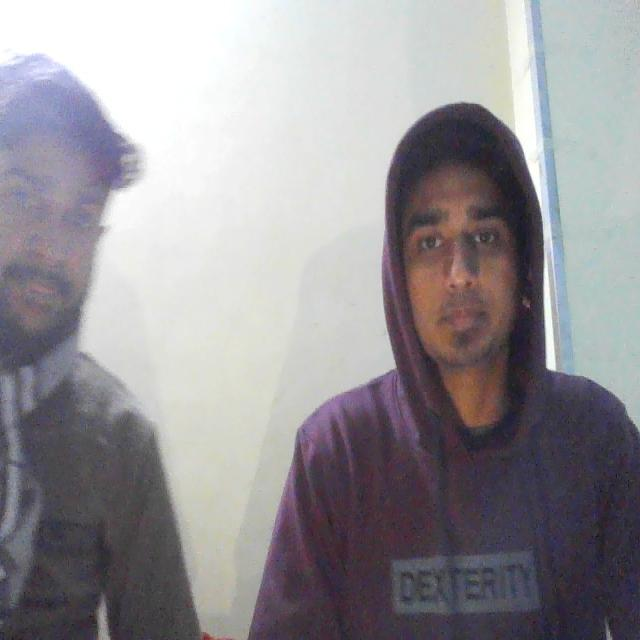real: (384, 91, 544, 393)
